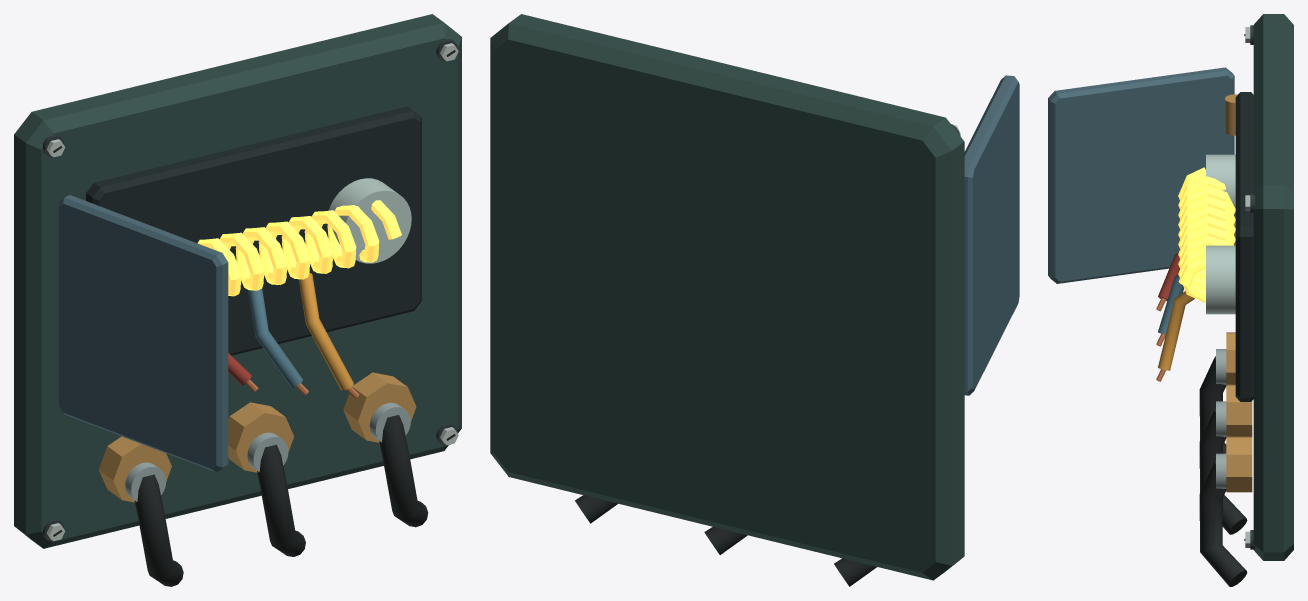
File: thruster-broken.glb
3 views of the same model, side by side, from view 1: azimuth 30°, elevation 25°; view 2: azimuth 150°, elevation 25°; view 3: azimuth 270°, elevation 25° (orthographic). The views are drawn at different scales.
Parts seen in each view (by area): view 1: RB_thruster_broken; view 2: RB_thruster_broken; view 3: RB_thruster_broken.
Boxes of the visible parts, x1,y1,x2,y2 form: RB_thruster_broken: (14,14,461,586); RB_thruster_broken: (490,14,1019,586); RB_thruster_broken: (1048,14,1293,586).
Bounding box in the file's own units: 0.82 × 0.8637 × 0.4568.
